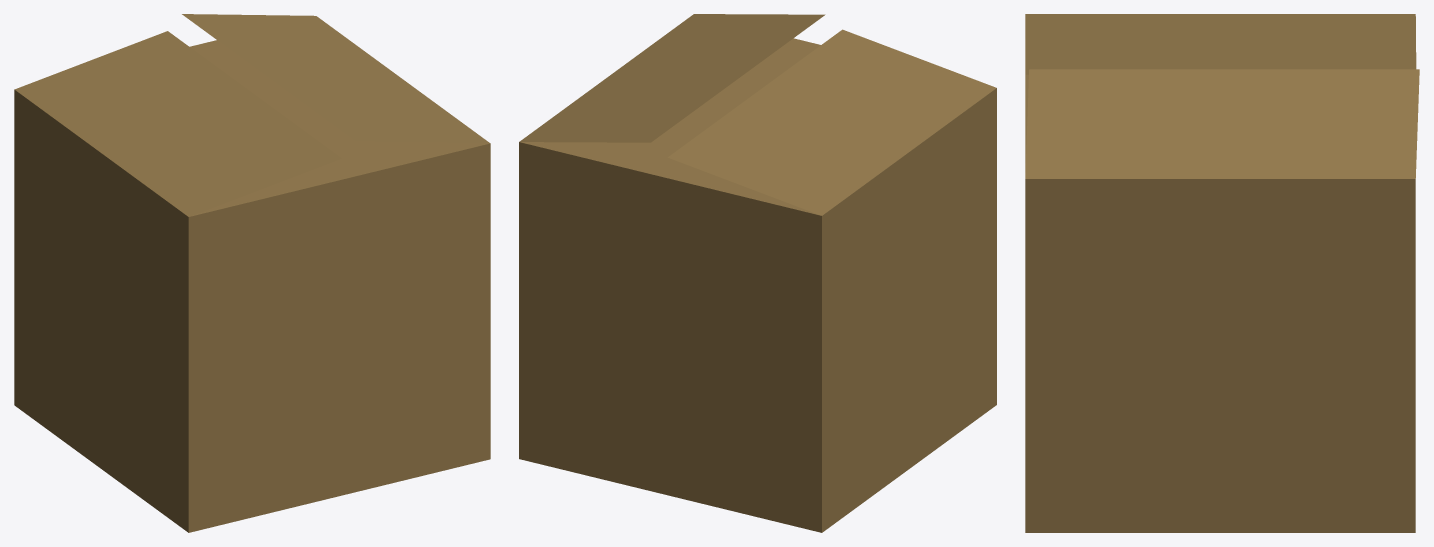
The model's file is cardboardBoxClosed.fbx.
The picture shows the model from 3 angles, left to right: view 1: azimuth 30°, elevation 25°; view 2: azimuth 150°, elevation 25°; view 3: azimuth 270°, elevation 25°; orthographic projection. The views are drawn at different scales.
Visible parts, largest first — view 1: Cube; view 2: Cube; view 3: Cube.
Part boxes in pixels (<box>): Cube: <box>14,14,490,532</box>; Cube: <box>519,14,996,532</box>; Cube: <box>1025,14,1419,532</box>.
Bounding box in the file's own units: 200 × 221 × 202.
